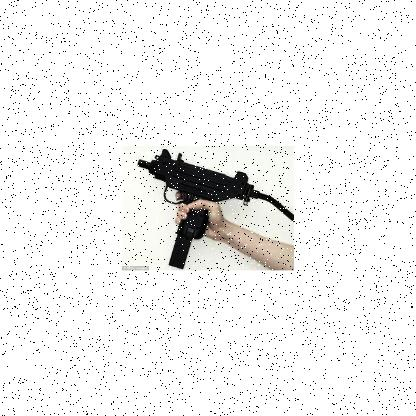gun: (135, 147, 257, 269)
